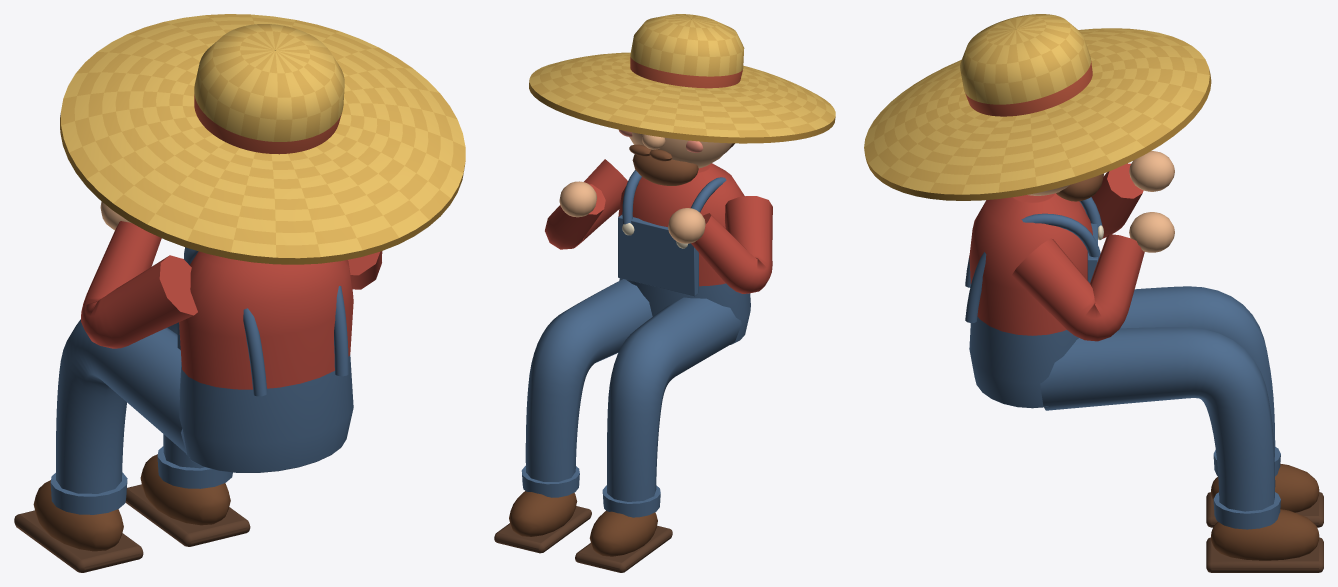
File: Fisher.fbx
3 renders of one model, left to right at view 1: azimuth 30°, elevation 25°; view 2: azimuth 150°, elevation 25°; view 3: azimuth 270°, elevation 25°, orthographic. The views are drawn at different scales.
Parts seen in each view (by area): view 1: Fisher_Body, Fisher_Arm_R.001, Fisher_Arm_L.001; view 2: Fisher_Body, Fisher_Arm_R.001, Fisher_Arm_L.001; view 3: Fisher_Body, Fisher_Arm_L.001, Fisher_Arm_R.001.
Boxes of the visible parts, box(x1,y1,x2,y2) form: Fisher_Body: box(14, 14, 465, 572); Fisher_Arm_R.001: box(81, 201, 197, 348); Fisher_Arm_L.001: box(348, 251, 382, 289); Fisher_Body: box(494, 14, 835, 572); Fisher_Arm_R.001: box(668, 196, 772, 293); Fisher_Arm_L.001: box(545, 159, 627, 249); Fisher_Body: box(864, 14, 1323, 572); Fisher_Arm_L.001: box(1011, 212, 1174, 341); Fisher_Arm_R.001: box(1080, 151, 1174, 238).
Bounding box in the file's own units: 0.694 × 1.11 × 0.8993.
